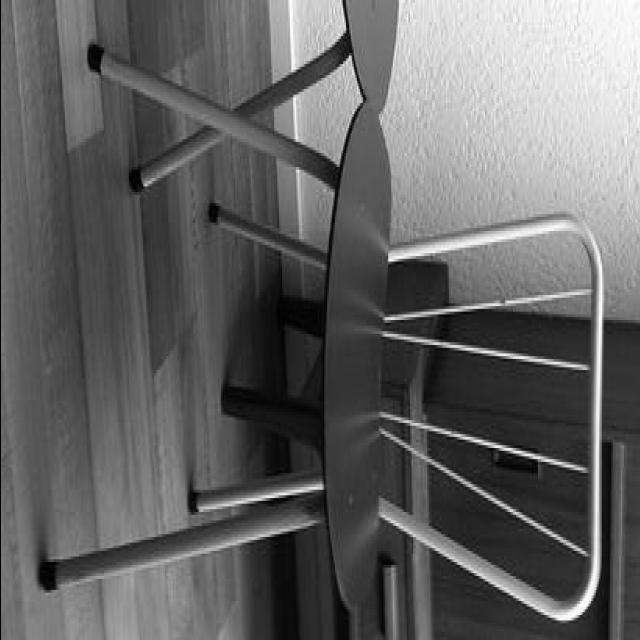chair: (38, 48, 617, 620)
